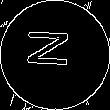N_E: (29, 34, 81, 76)
